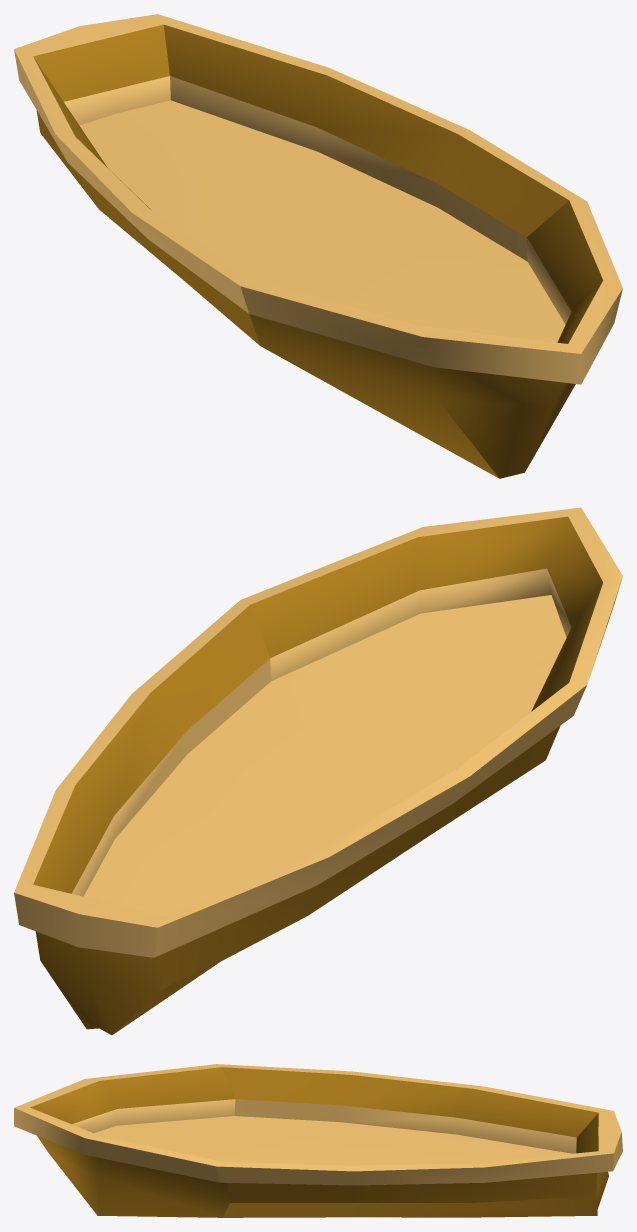
File: Perahu Player.fbx
The picture shows the model from 3 angles, top to bottom: view 1: azimuth 30°, elevation 25°; view 2: azimuth 150°, elevation 25°; view 3: azimuth 270°, elevation 25°; orthographic projection. The views are drawn at different scales.
Visible parts, largest first — view 1: kapal; view 2: kapal; view 3: kapal.
Boxes of the visible parts, x1,y1,x2,y2 form: kapal: (14, 14, 622, 478); kapal: (14, 507, 622, 1035); kapal: (14, 1064, 622, 1217).
Size of the model in its own units: 475 by 226 by 1193.
